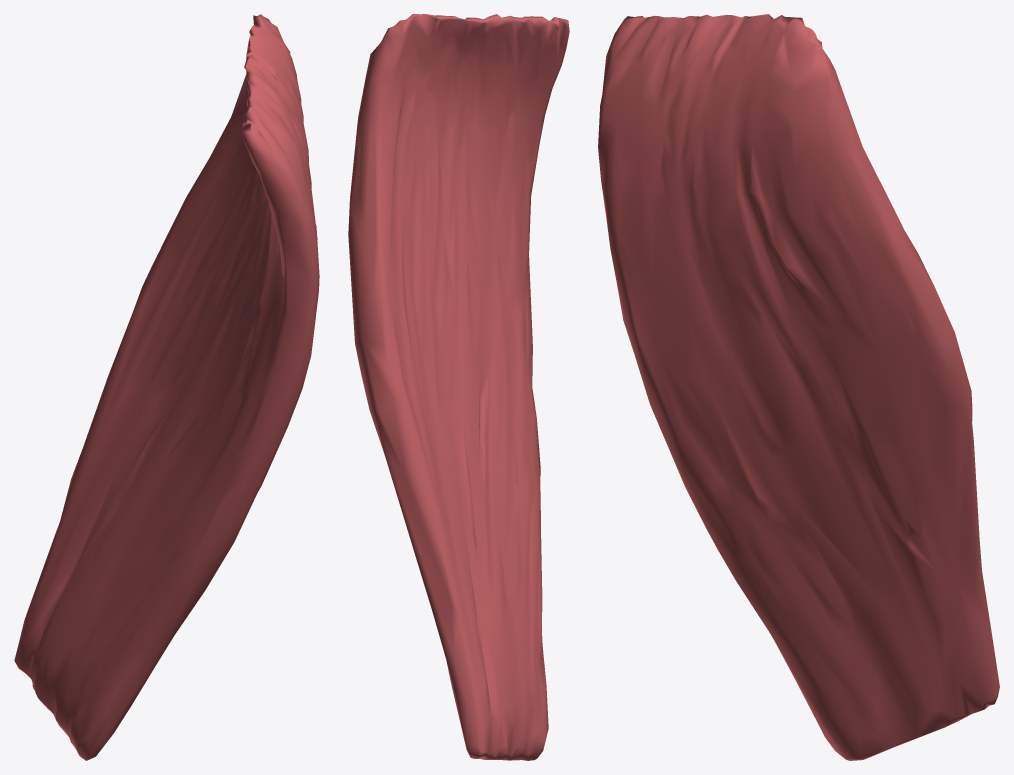
The picture shows the model from 3 angles, left to right: view 1: azimuth 30°, elevation 25°; view 2: azimuth 150°, elevation 25°; view 3: azimuth 270°, elevation 25°; orthographic projection. The views are drawn at different scales.
Visible parts, largest first — view 1: 左侧甲杓肌外侧部; view 2: 左侧甲杓肌外侧部; view 3: 左侧甲杓肌外侧部.
Boxes of the visible parts, bbox=[...] form: 左侧甲杓肌外侧部: bbox=[14, 14, 319, 760]; 左侧甲杓肌外侧部: bbox=[348, 14, 569, 760]; 左侧甲杓肌外侧部: bbox=[598, 14, 999, 760].
Bounding box in the file's own units: 0.0088 × 0.0306 × 0.0136.
